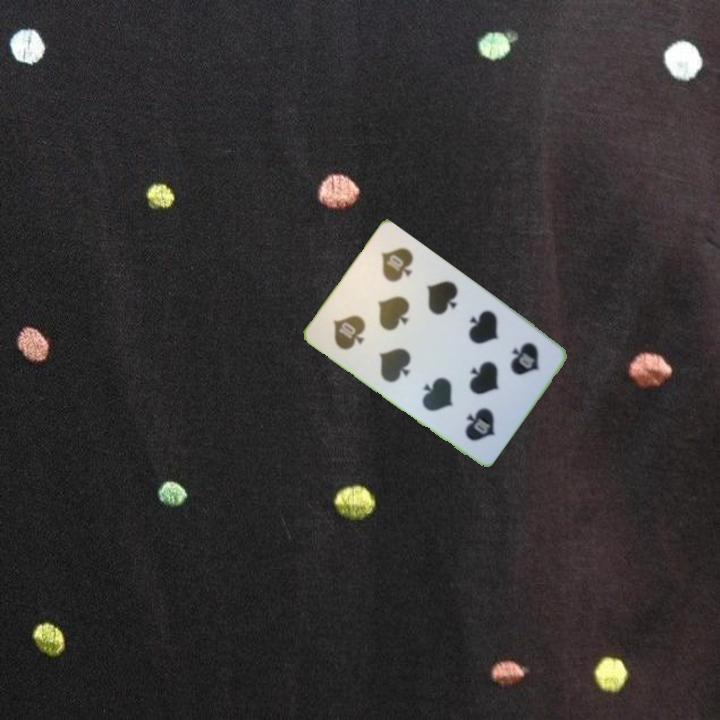s_10.png: (474, 321, 558, 407), (314, 281, 398, 367)
